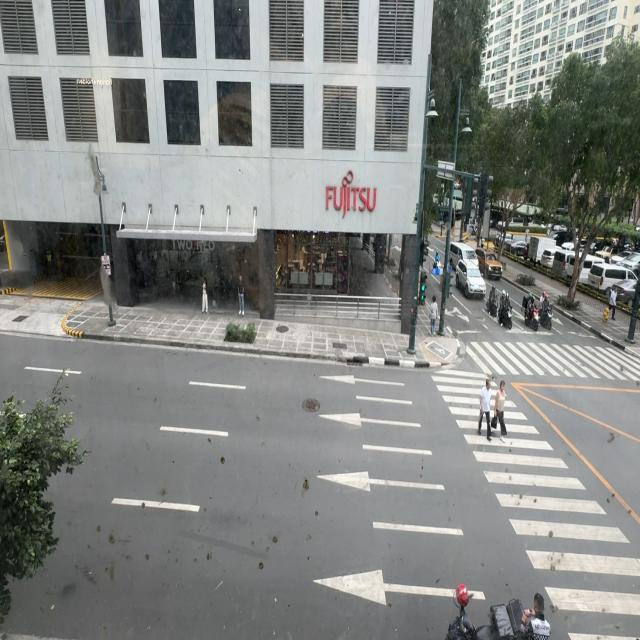crossing: (478, 377, 493, 442), (493, 378, 508, 439)
pedestrain: (429, 296, 438, 336), (238, 276, 245, 316), (610, 286, 618, 320), (202, 277, 208, 314)
